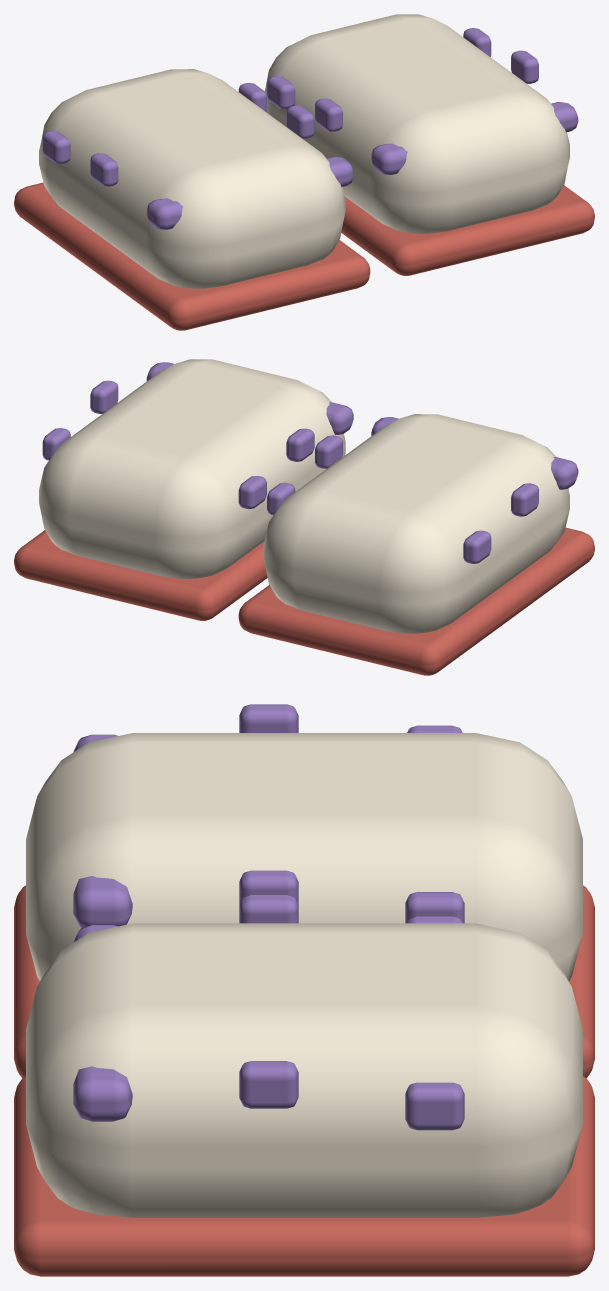
Rendered from beaded_sandals.glb.
3 renders of one model, top to bottom at view 1: azimuth 30°, elevation 25°; view 2: azimuth 150°, elevation 25°; view 3: azimuth 270°, elevation 25°, orthographic. The views are drawn at different scales.
Visible parts, largest first — view 1: beaded_sandals_LegL, beaded_sandals_LegR; view 2: beaded_sandals_LegL, beaded_sandals_LegR; view 3: beaded_sandals_LegR, beaded_sandals_LegL.
Part boxes in pixels (bbox=[...]): beaded_sandals_LegL: bbox=[14, 69, 370, 330]; beaded_sandals_LegR: bbox=[264, 14, 594, 275]; beaded_sandals_LegL: bbox=[238, 414, 594, 675]; beaded_sandals_LegR: bbox=[14, 359, 353, 620]; beaded_sandals_LegR: bbox=[14, 894, 594, 1276]; beaded_sandals_LegL: bbox=[14, 704, 594, 1077].
Size of the model in its own units: 0.37 by 0.1075 by 0.245.
